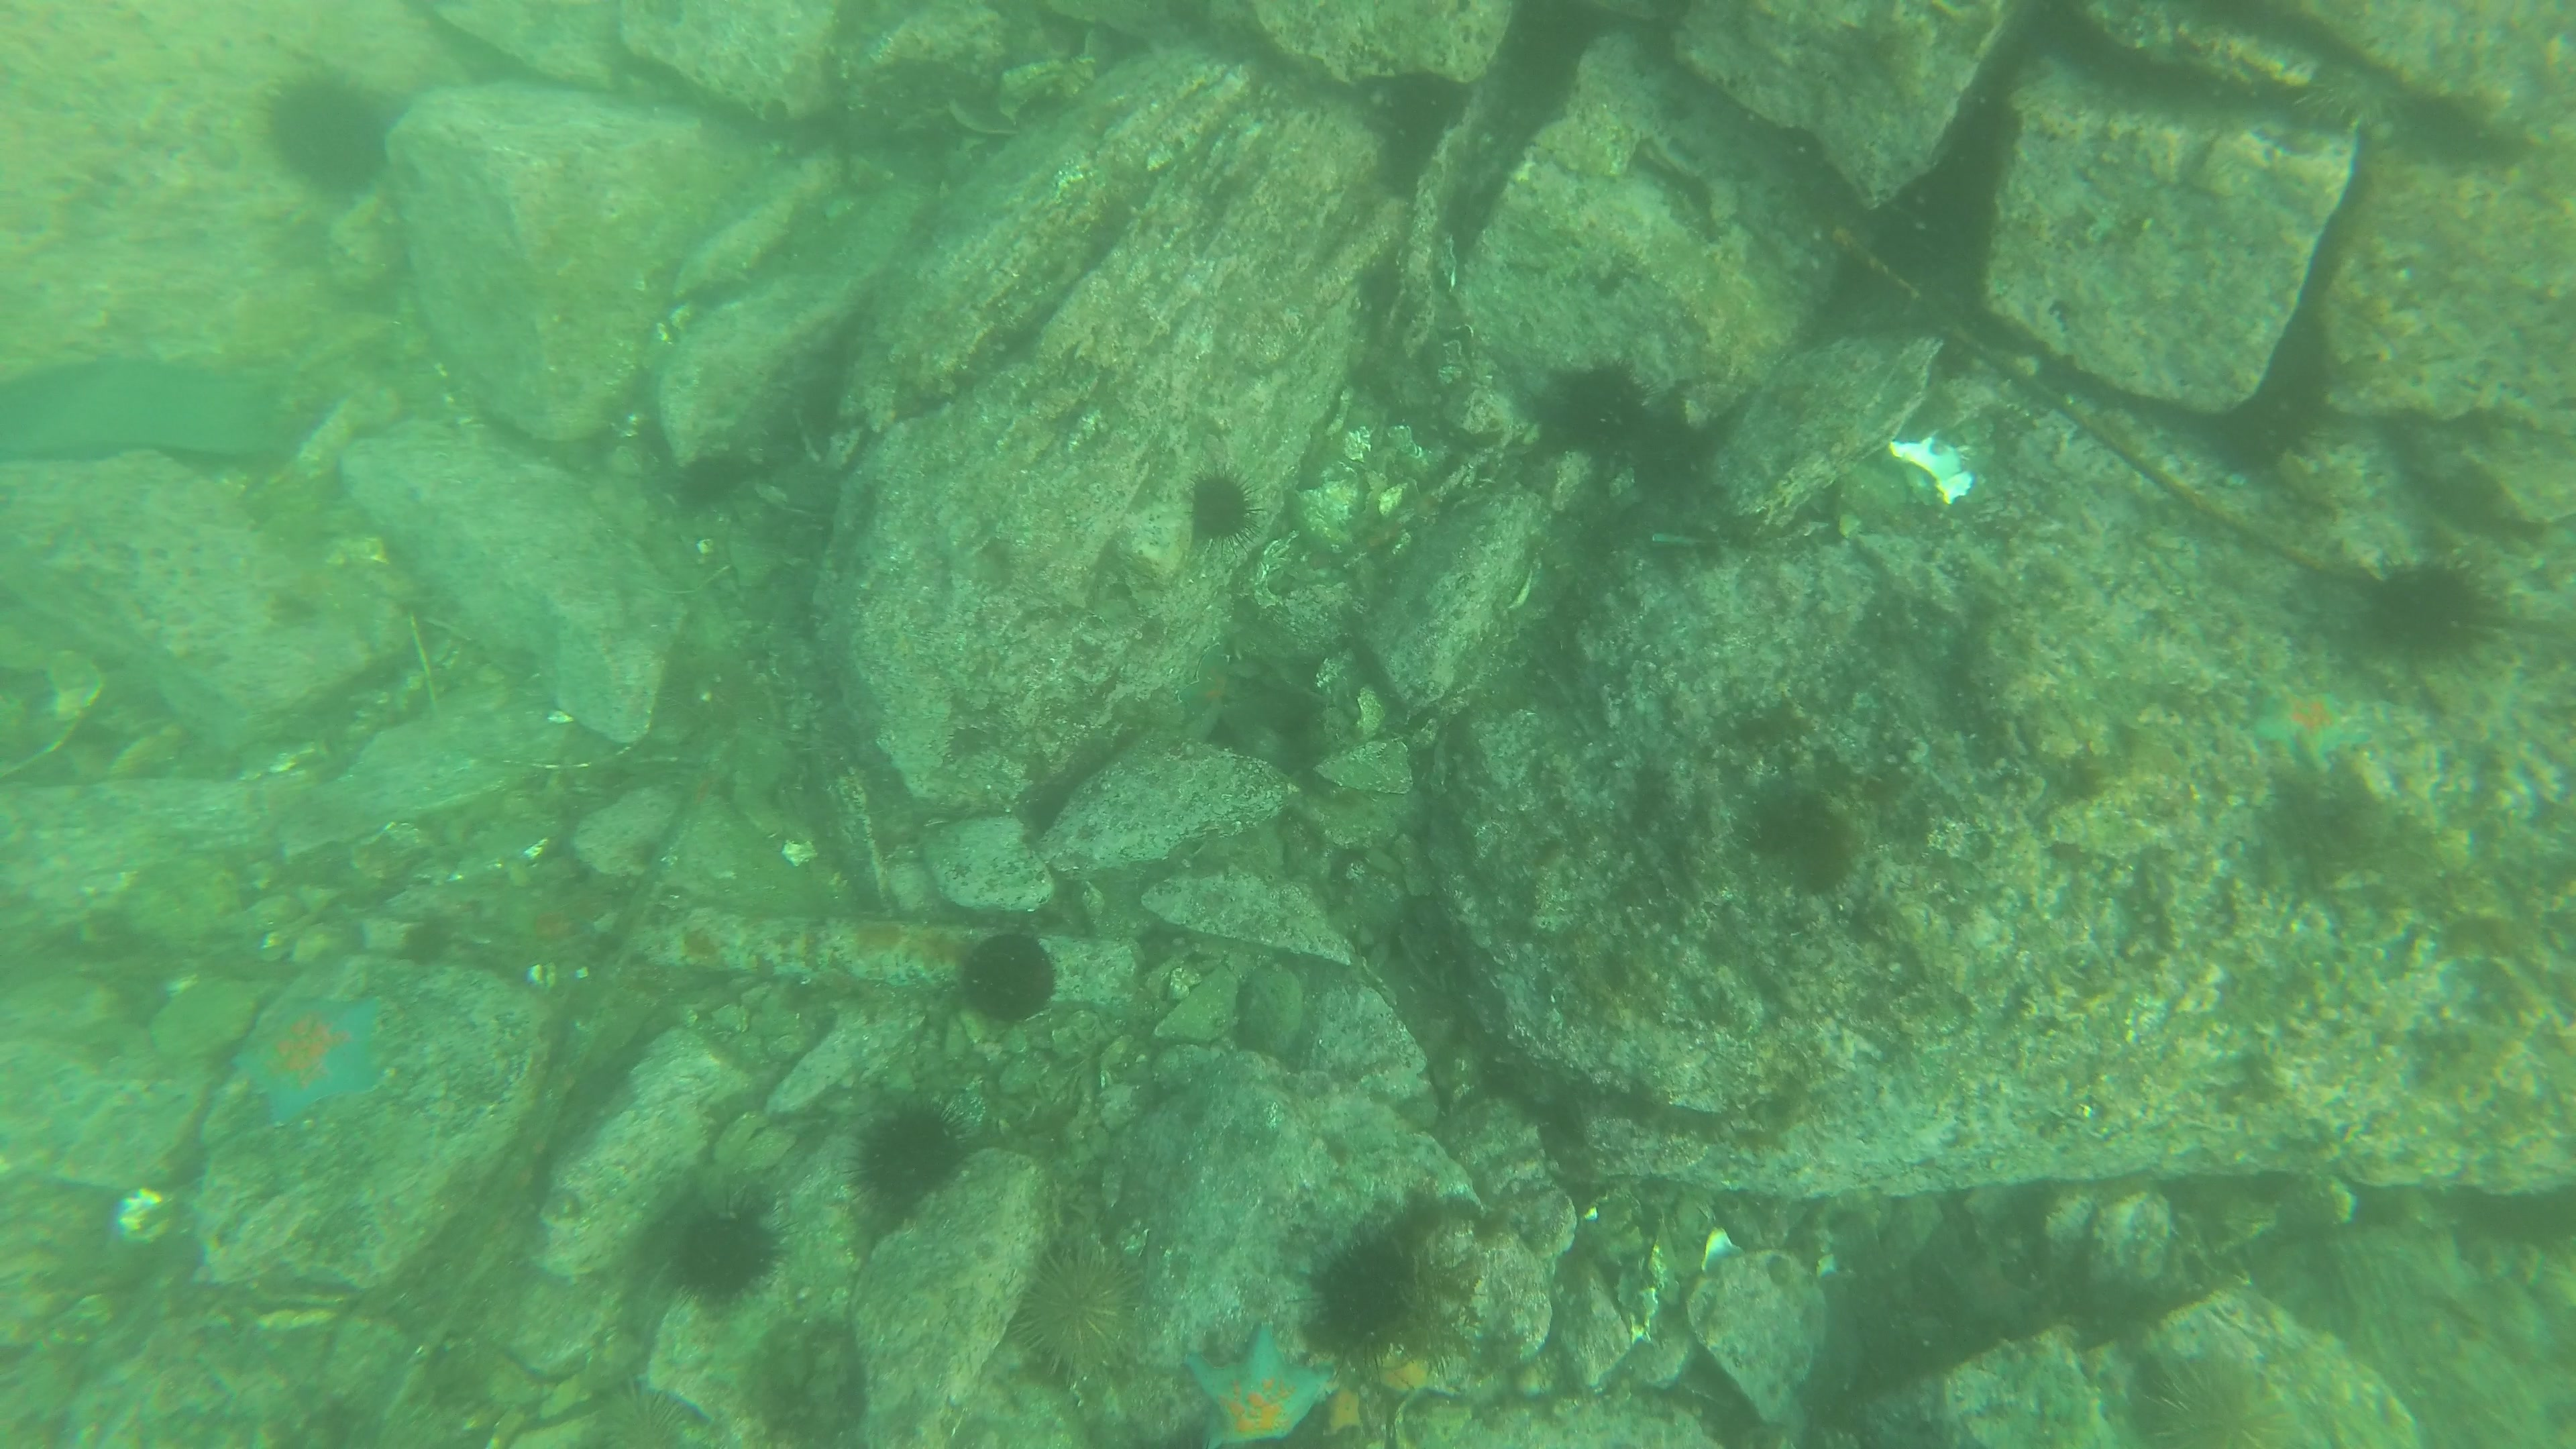echinus: (1001, 1244, 1138, 1396), (2130, 1341, 2311, 1449), (258, 55, 389, 193), (2369, 547, 2512, 669), (663, 1200, 809, 1313), (853, 1102, 970, 1224), (2296, 62, 2431, 147), (961, 925, 1060, 1033), (577, 1371, 702, 1449), (1177, 458, 1272, 554), (667, 449, 759, 513)
scallop: (1879, 426, 1982, 522)
starfish: (234, 984, 395, 1134), (1185, 1313, 1348, 1444), (2249, 674, 2374, 770)
